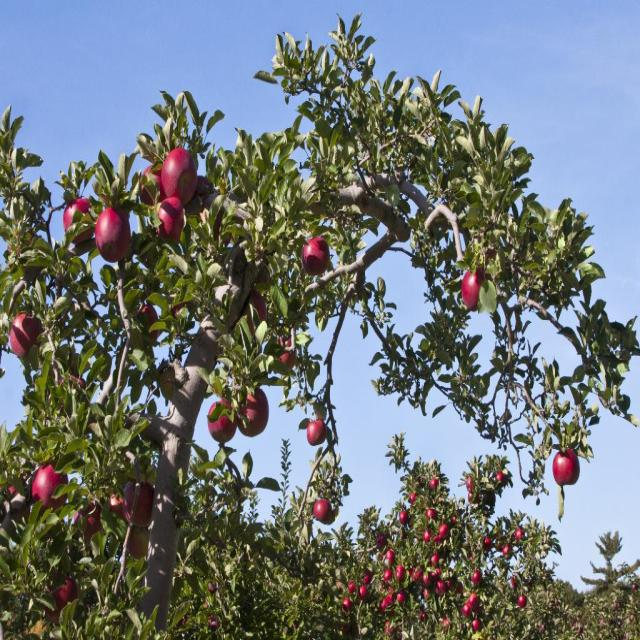Healty Apple: (342, 470, 526, 639), (91, 207, 132, 264), (161, 150, 197, 209), (28, 465, 71, 513), (44, 575, 80, 628), (6, 314, 46, 358), (241, 386, 269, 440), (74, 501, 108, 545), (154, 199, 186, 245), (64, 200, 95, 247), (207, 402, 239, 446), (242, 288, 270, 335), (123, 483, 152, 528), (302, 236, 331, 278), (462, 265, 488, 310), (551, 451, 579, 489), (138, 166, 161, 208), (125, 526, 149, 560), (277, 335, 298, 371), (305, 419, 328, 448), (110, 491, 124, 526), (312, 501, 330, 521), (8, 482, 18, 495)
